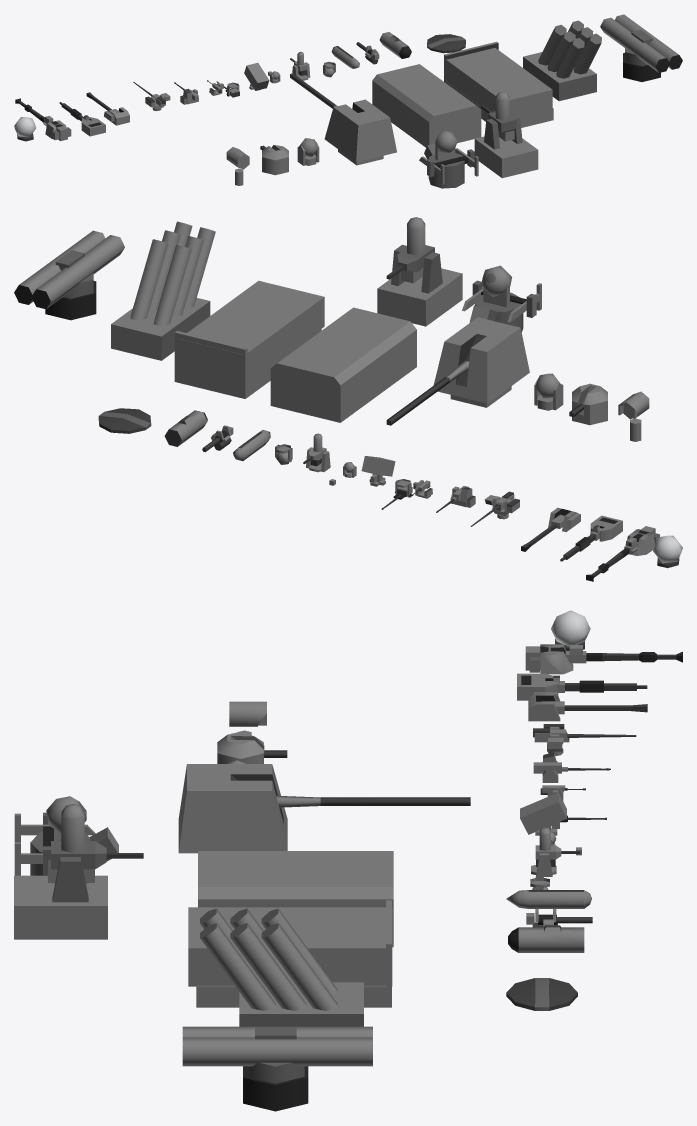
Rendered from attachment_lods.fbx.
The picture shows the model from 3 angles, top to bottom: view 1: azimuth 30°, elevation 25°; view 2: azimuth 150°, elevation 25°; view 3: azimuth 270°, elevation 25°; orthographic projection. The views are drawn at different scales.
Parts seen in each view (by area): view 1: cruise_missile_silo_base_low, cruise_missile_silo_top_low001, decoy_torpedo_laucher_low, carrier_main_gun001, carrier_phalanx_bas_low, torpedo_launcher_lod, air_defence_missile_base_top_low, cruise_missile_silo_base_low001, carrier_flare_launcher_low, battle_cannon_large_low, air_based_radar_low, main_battle_cannon_base_low (+9 smaller); view 2: cruise_missile_silo_base_low, decoy_torpedo_laucher_low, cruise_missile_silo_top_low001, carrier_main_gun001, carrier_phalanx_bas_low, torpedo_launcher_lod, cruise_missile_silo_base_low001, air_defence_missile_base_top_low, carrier_flare_launcher_low, air_based_radar_low, battle_cannon_large_low, main_battle_cannon_base_low (+9 smaller); view 3: decoy_torpedo_laucher_low, cruise_missile_silo_base_low, carrier_main_gun001, torpedo_launcher_lod, carrier_phalanx_bas_low, cruise_missile_silo_top_low001, air_defence_missile_base_top_low, battle_cannon_large_low, cruise_missile_silo_base_low001, rocket_pod_low, air_based_radar_low, main_battle_cannon_base_low (+9 smaller).
Boxes of the visible parts, left/top/right/bottom form: cruise_missile_silo_base_low: left=372, top=64, right=481, bottom=147; cruise_missile_silo_top_low001: left=446, top=48, right=552, bottom=119; decoy_torpedo_laucher_low: left=523, top=20, right=601, bottom=101; carrier_main_gun001: left=290, top=73, right=396, bottom=165; carrier_phalanx_bas_low: left=474, top=91, right=538, bottom=178; torpedo_launcher_lod: left=600, top=14, right=682, bottom=81; air_defence_missile_base_top_low: left=419, top=130, right=478, bottom=188; cruise_missile_silo_base_low001: left=444, top=41, right=553, bottom=127; carrier_flare_launcher_low: left=260, top=145, right=288, bottom=175; battle_cannon_large_low: left=15, top=98, right=71, bottom=141; air_based_radar_low: left=427, top=34, right=465, bottom=53; main_battle_cannon_base_low: left=59, top=102, right=105, bottom=136; cruise_missile_silo_base_low: left=270, top=307, right=416, bottom=422; decoy_torpedo_laucher_low: left=111, top=221, right=215, bottom=360; cruise_missile_silo_top_low001: left=179, top=280, right=324, bottom=384; carrier_main_gun001: left=386, top=317, right=529, bottom=425; carrier_phalanx_bas_low: left=377, top=217, right=462, bottom=326; torpedo_launcher_lod: left=14, top=230, right=124, bottom=320; cruise_missile_silo_base_low001: left=174, top=328, right=321, bottom=398; air_defence_missile_base_top_low: left=462, top=265, right=541, bottom=332; carrier_flare_launcher_low: left=569, top=383, right=607, bottom=425; air_based_radar_low: left=98, top=408, right=151, bottom=433; battle_cannon_large_low: left=586, top=526, right=659, bottom=581; main_battle_cannon_base_low: left=560, top=515, right=622, bottom=561; decoy_torpedo_laucher_low: left=200, top=908, right=363, bottom=1026; cruise_missile_silo_base_low: left=198, top=851, right=393, bottom=947; carrier_main_gun001: left=178, top=764, right=470, bottom=853; torpedo_launcher_lod: left=182, top=1026, right=372, bottom=1111; carrier_phalanx_bas_low: left=14, top=804, right=143, bottom=939; cruise_missile_silo_top_low001: left=188, top=907, right=392, bottom=986; air_defence_missile_base_top_low: left=14, top=796, right=118, bottom=875; battle_cannon_large_low: left=525, top=644, right=682, bottom=674; cruise_missile_silo_base_low001: left=196, top=900, right=391, bottom=1007; rocket_pod_low: left=508, top=925, right=584, bottom=952; air_based_radar_low: left=506, top=978, right=577, bottom=1010; main_battle_cannon_base_low: left=517, top=673, right=647, bottom=700.
Size of the model in its own units: 3687 by 480 by 2220.
1 material, 1 textured.
